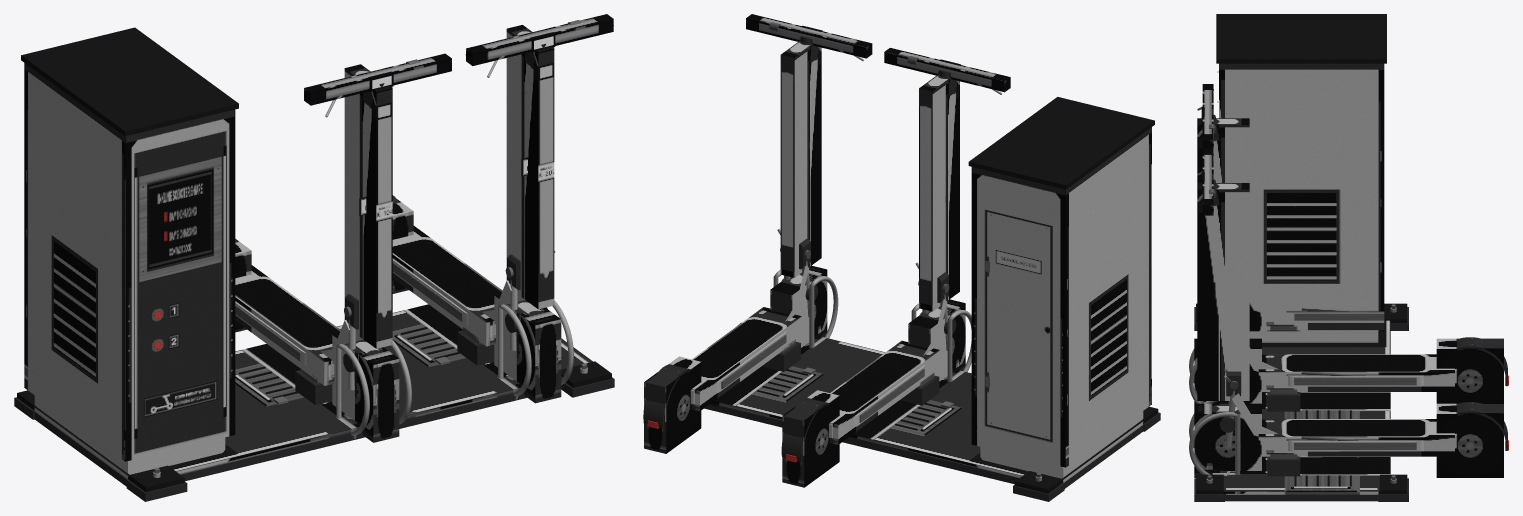
Rendered from scooterrack-BFuuEdrd.glb.
3 views of the same model, side by side, from view 1: azimuth 30°, elevation 25°; view 2: azimuth 150°, elevation 25°; view 3: azimuth 270°, elevation 25° (orthographic). The views are drawn at different scales.
Parts seen in each view (by area): view 1: farBaked, body, glow; view 2: farBaked, body; view 3: farBaked, body.
Part boxes in pixels (box(x1,y1,x2,y2)): farBaked: box(24, 14, 613, 486); body: box(14, 20, 614, 501); glow: box(155, 36, 553, 399); farBaked: box(644, 14, 1151, 488); body: box(643, 22, 1160, 501); farBaked: box(1194, 63, 1503, 501); body: box(1189, 14, 1508, 501).
Bounding box in the file's own units: 1.48 × 1.08 × 1.04.
3 materials, 3 textured.
